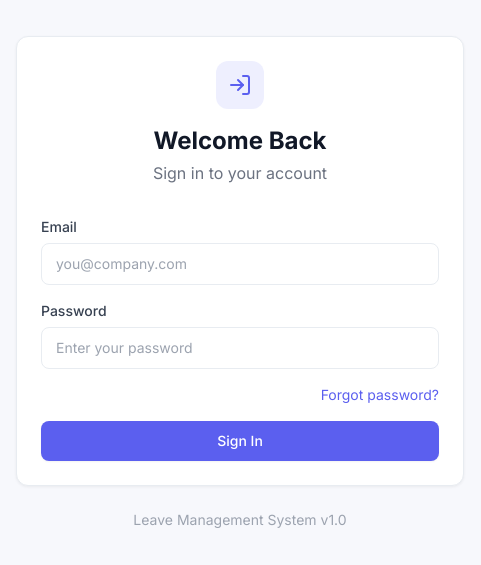
Login Page › shows validation errors for empty fields
This screenshot has width=481, height=565.
# Submit without filling fields
Click the button "Sign In" at (240, 441), box [41,421,439,461]
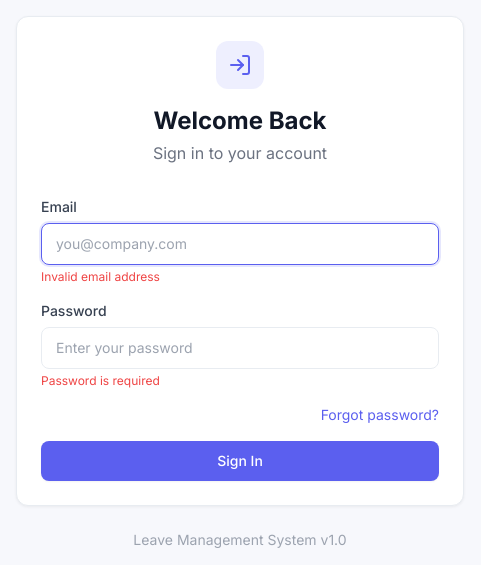
Result: the text "Invalid email address" is shown at [41,269,160,284]
